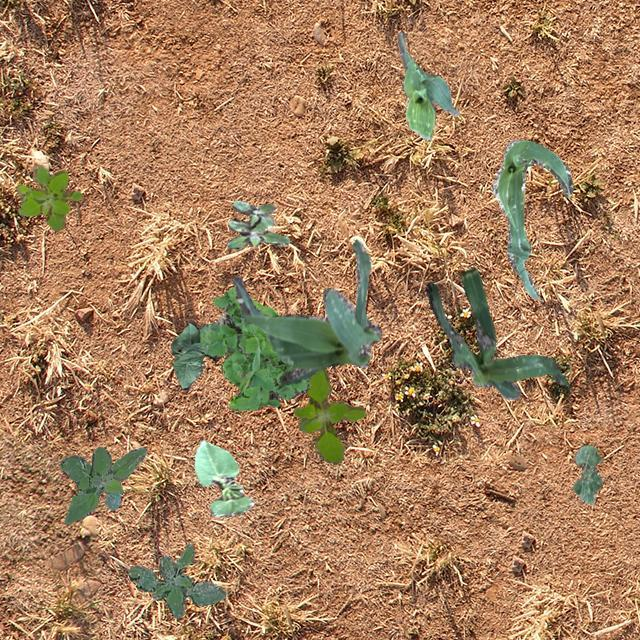crop: (232, 238, 381, 384), (424, 266, 568, 398), (492, 138, 572, 298), (396, 32, 458, 138), (192, 439, 252, 516), (170, 320, 203, 390), (572, 443, 600, 502)
weed: (196, 286, 310, 409), (127, 540, 225, 618), (58, 446, 146, 524), (292, 368, 364, 463), (15, 164, 80, 230), (226, 200, 288, 248)
